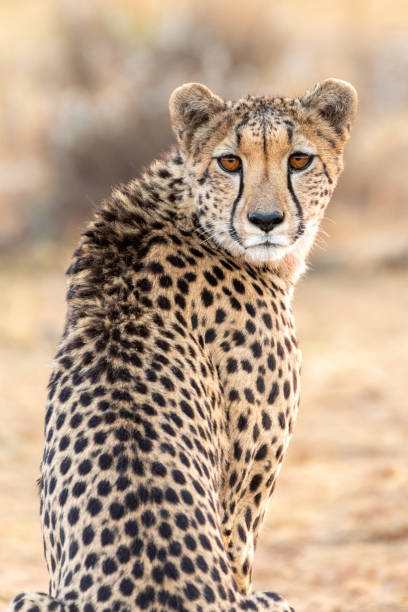cheetah: (157, 56, 363, 281)
